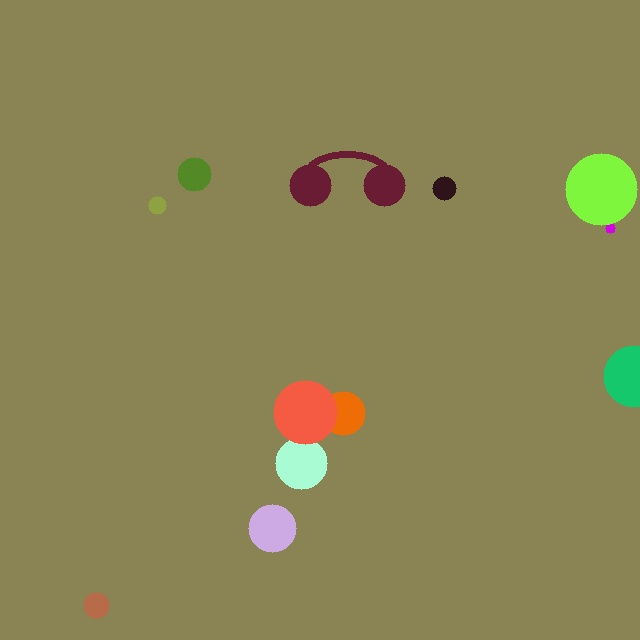over_ear: (285, 138, 409, 210)
